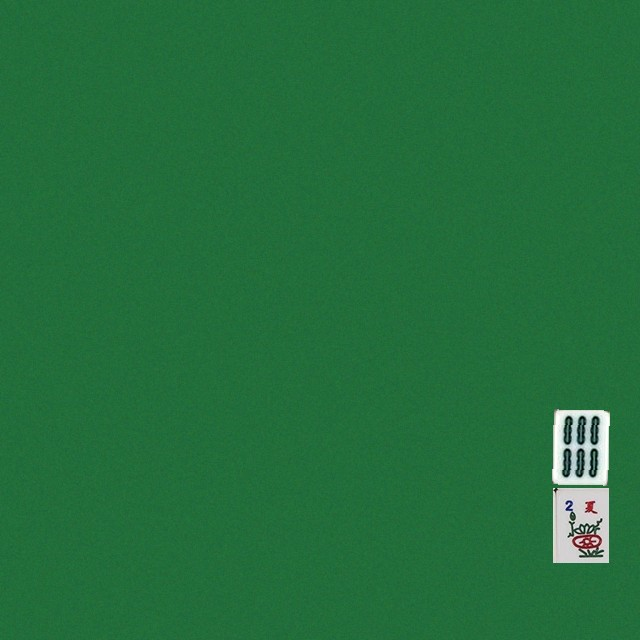tile: (552, 409, 608, 484), (552, 487, 608, 562)
